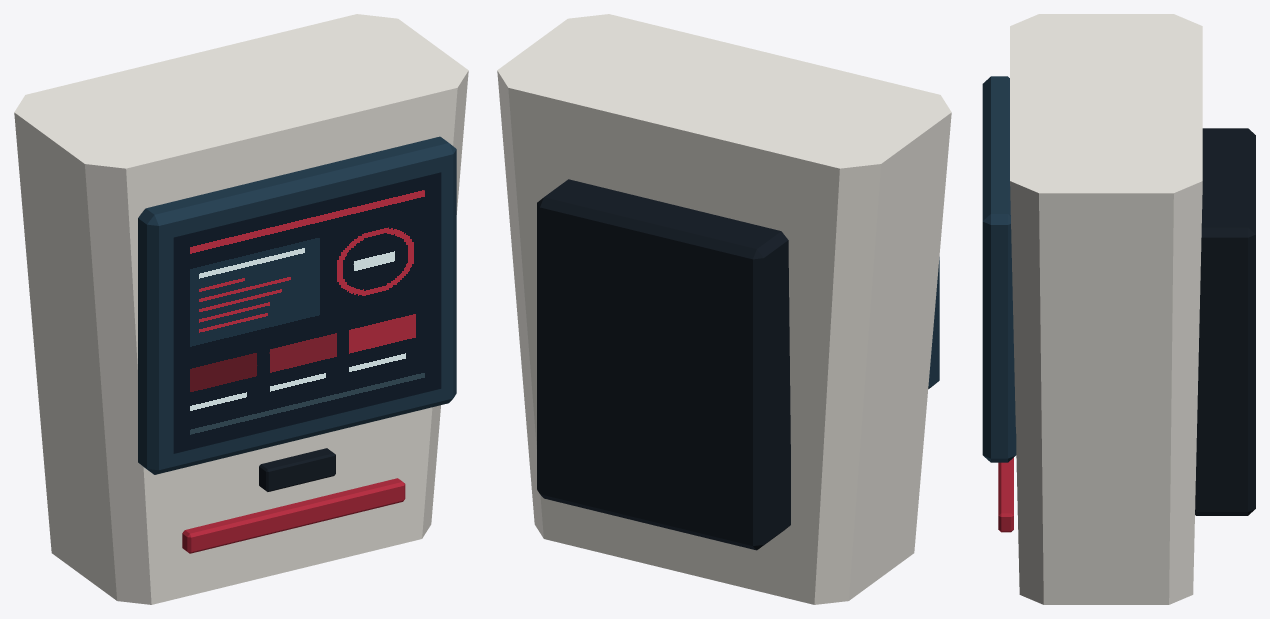
Rendered from terminal-wall-compact-nakamura-lindahl.glb.
3 renders of one model, left to right at view 1: azimuth 30°, elevation 25°; view 2: azimuth 150°, elevation 25°; view 3: azimuth 270°, elevation 25°, orthographic. The views are drawn at different scales.
Visible parts, largest first — view 1: Housing, Display, Trim, Identity, Rubber; view 2: Housing, Rubber, Trim; view 3: Housing, Rubber, Trim, Identity.
Boxes of the visible parts, x1,y1,x2,y2 form: Housing: (14, 14, 468, 604); Display: (173, 172, 441, 453); Trim: (138, 136, 456, 474); Identity: (182, 478, 405, 553); Rubber: (259, 448, 335, 491); Housing: (497, 14, 951, 604); Rubber: (537, 179, 790, 550); Trim: (928, 257, 939, 388); Housing: (1010, 14, 1202, 604); Rubber: (1195, 128, 1255, 515); Trim: (982, 76, 1016, 462); Identity: (998, 457, 1013, 532).
Size of the model in its own units: 0.352 by 0.392 by 0.2288.
Materials: 5 (1 with a texture image).
